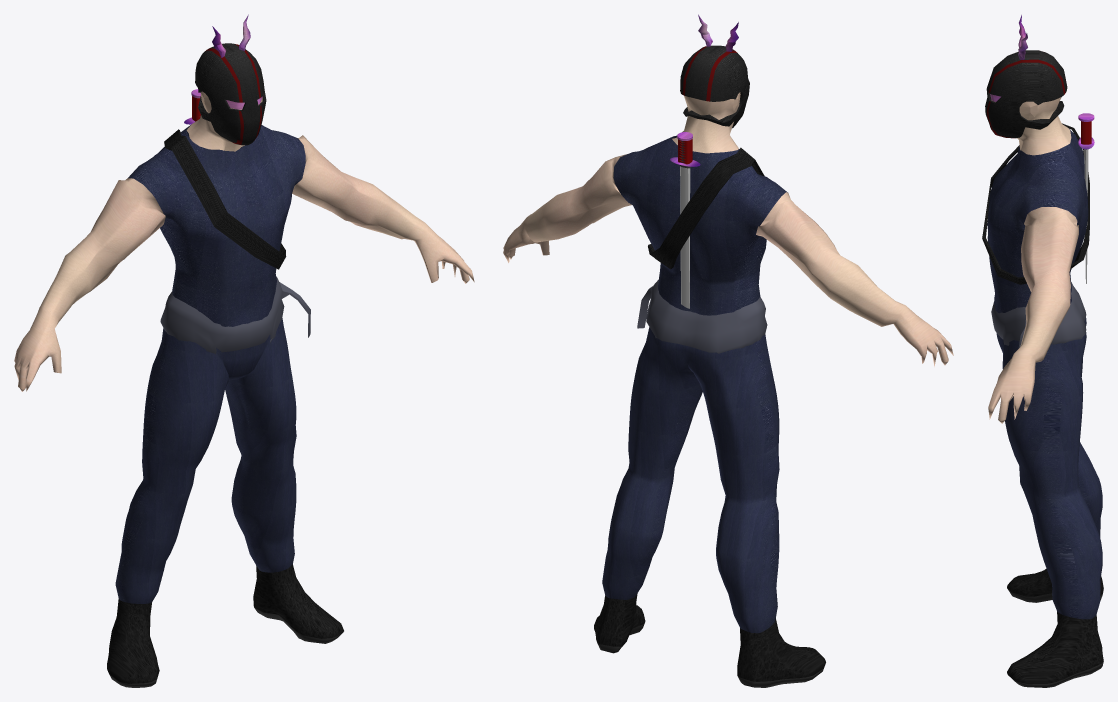
The model's file is ninja done.fbx.
3 renders of one model, left to right at view 1: azimuth 30°, elevation 25°; view 2: azimuth 150°, elevation 25°; view 3: azimuth 270°, elevation 25°, orthographic. The views are drawn at different scales.
Parts seen in each view (by area): view 1: dupe1; view 2: dupe1; view 3: dupe1.
Boxes of the visible parts, x1,y1,x2,y2 form: dupe1: [14, 14, 474, 687]; dupe1: [503, 14, 953, 687]; dupe1: [982, 15, 1103, 687].
Bounding box in the file's own units: 4.62 × 6.32 × 1.13.
